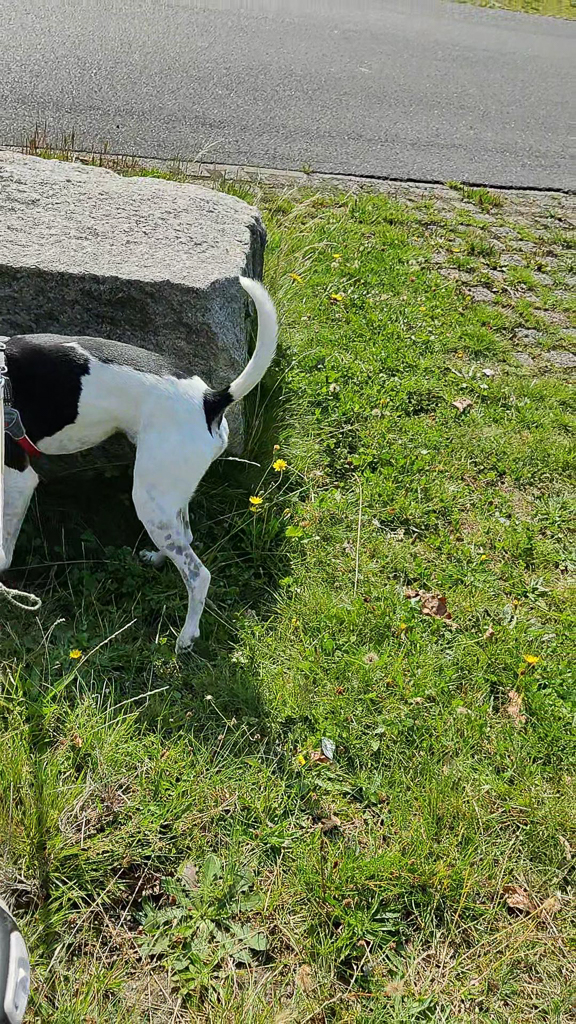Dog: (0, 267, 292, 663)
